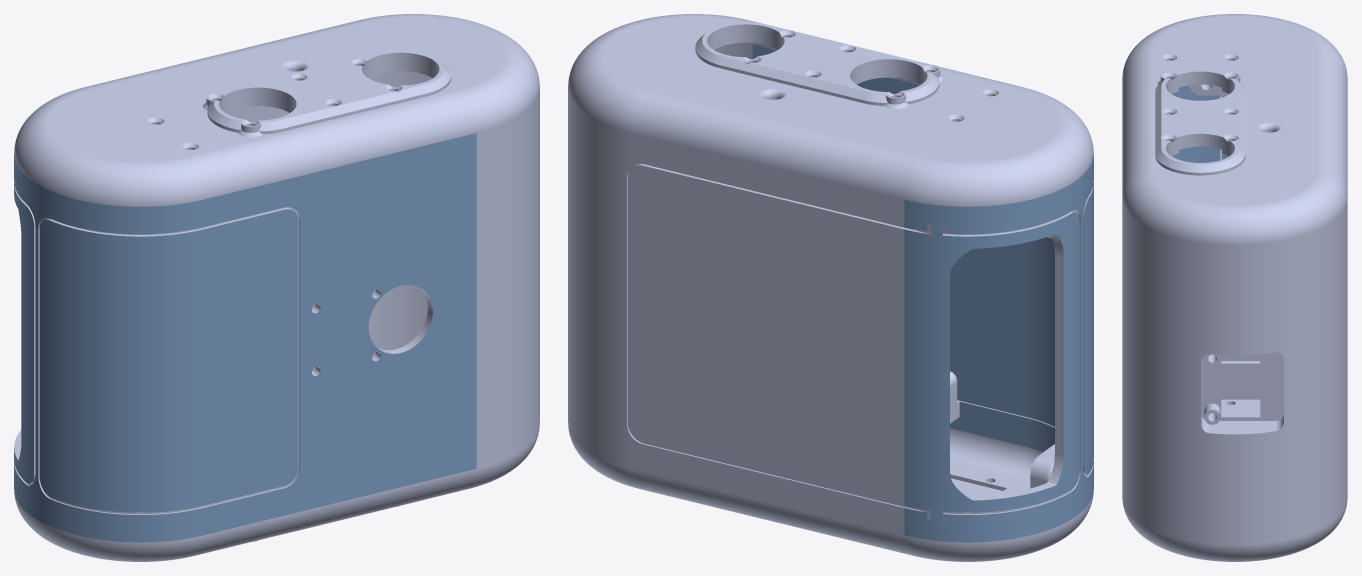
File: qB-Body.obj
3 renders of one model, left to right at view 1: azimuth 30°, elevation 25°; view 2: azimuth 150°, elevation 25°; view 3: azimuth 270°, elevation 25°, orthographic. The views are drawn at different scales.
Parts seen in each view (by area): view 1: Body, TopCap, BotCap; view 2: Body, BotCap, TopCap; view 3: Body, TopCap.
Part boxes in pixels (x1=…): Body: x1=14, y1=14, x2=539, y2=561; TopCap: x1=40, y1=208, x2=298, y2=512; BotCap: x1=14, y1=106, x2=315, y2=483; Body: x1=568, y1=14, x2=1093, y2=561; BotCap: x1=629, y1=164, x2=1079, y2=520; TopCap: x1=950, y1=182, x2=1093, y2=474; Body: x1=1122, y1=14, x2=1347, y2=561; TopCap: x1=1172, y1=85, x2=1220, y2=162.
Size of the model in its own units: 169 by 136 by 75.
